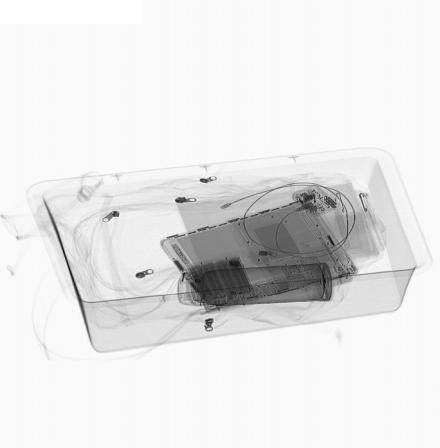Powerbank: (188, 254, 257, 308)
